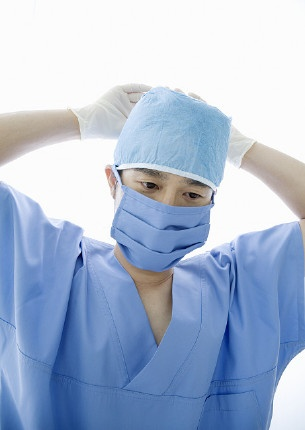Mask: (113, 168, 213, 267)
